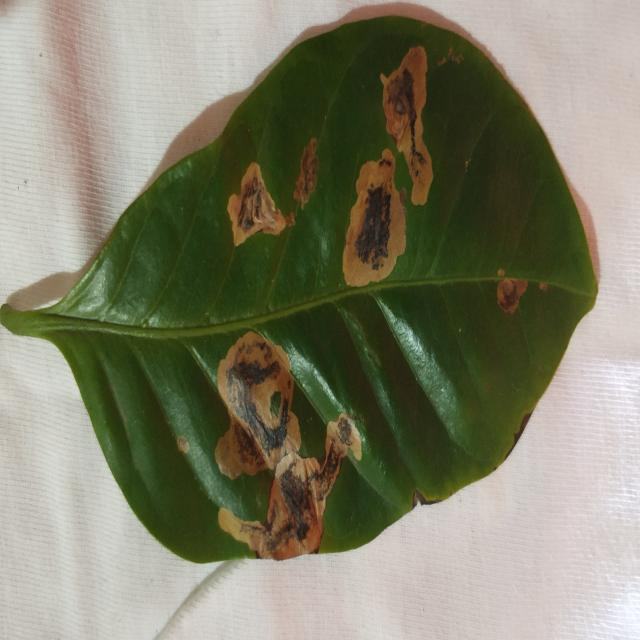Plaga-Minador: (0, 4, 601, 567)
